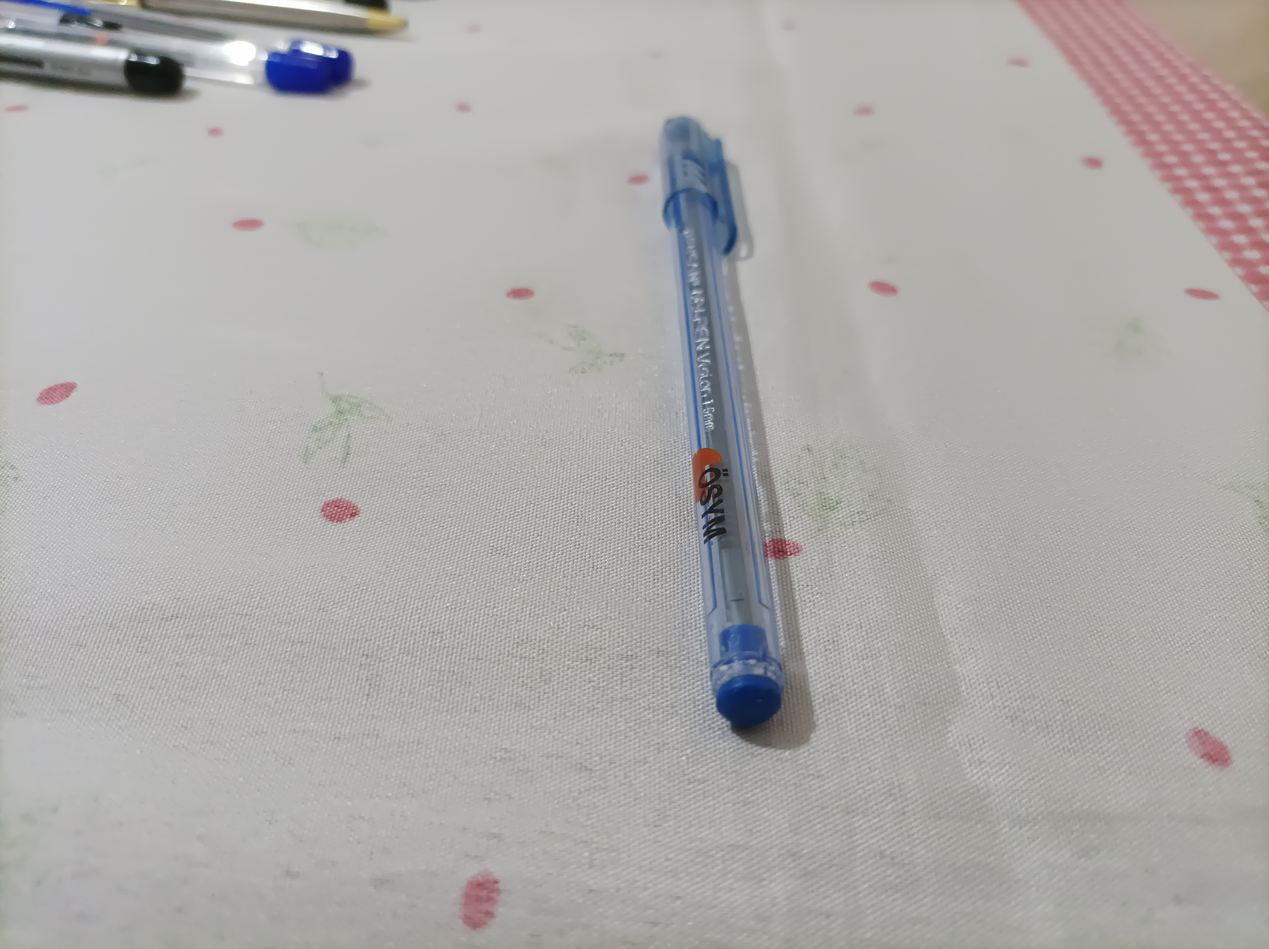plastic: (664, 124, 781, 736)
